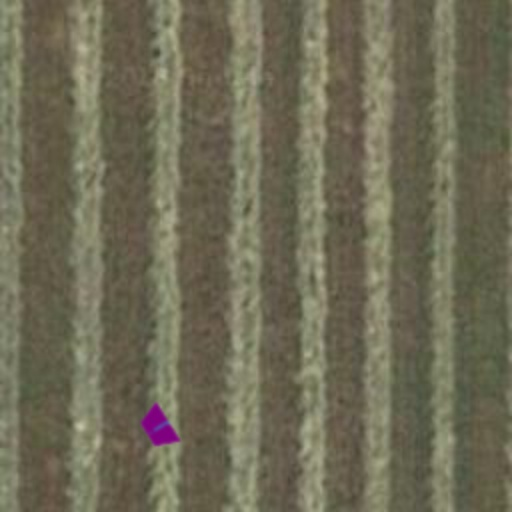trapezoid: (124, 394, 192, 462)
